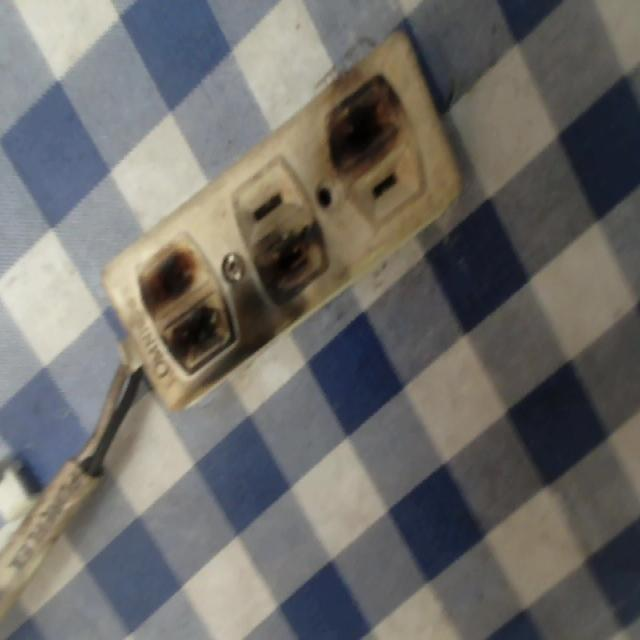-: (132, 235, 231, 377), (317, 72, 406, 171), (251, 224, 333, 309)
